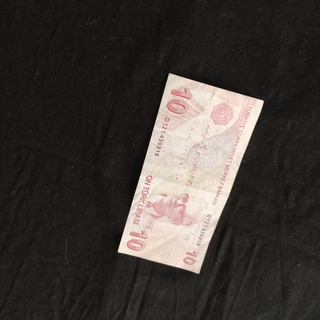10TLBack: (115, 71, 265, 275)
